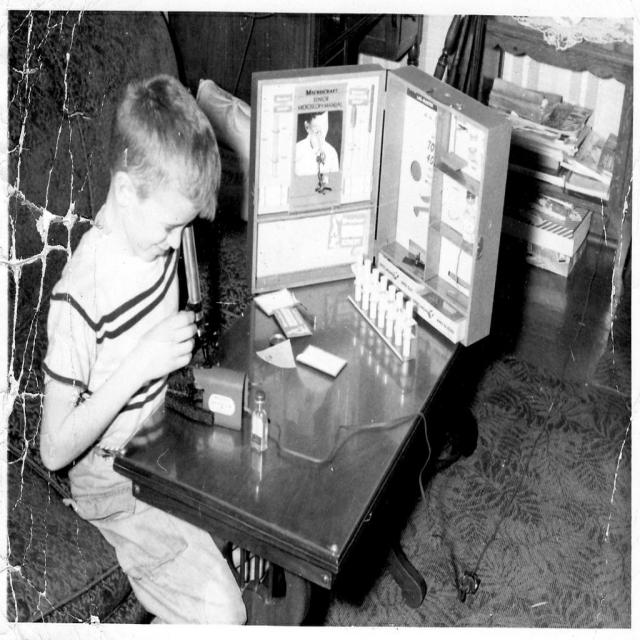desk: (114, 286, 424, 622)
person: (38, 79, 240, 630)
